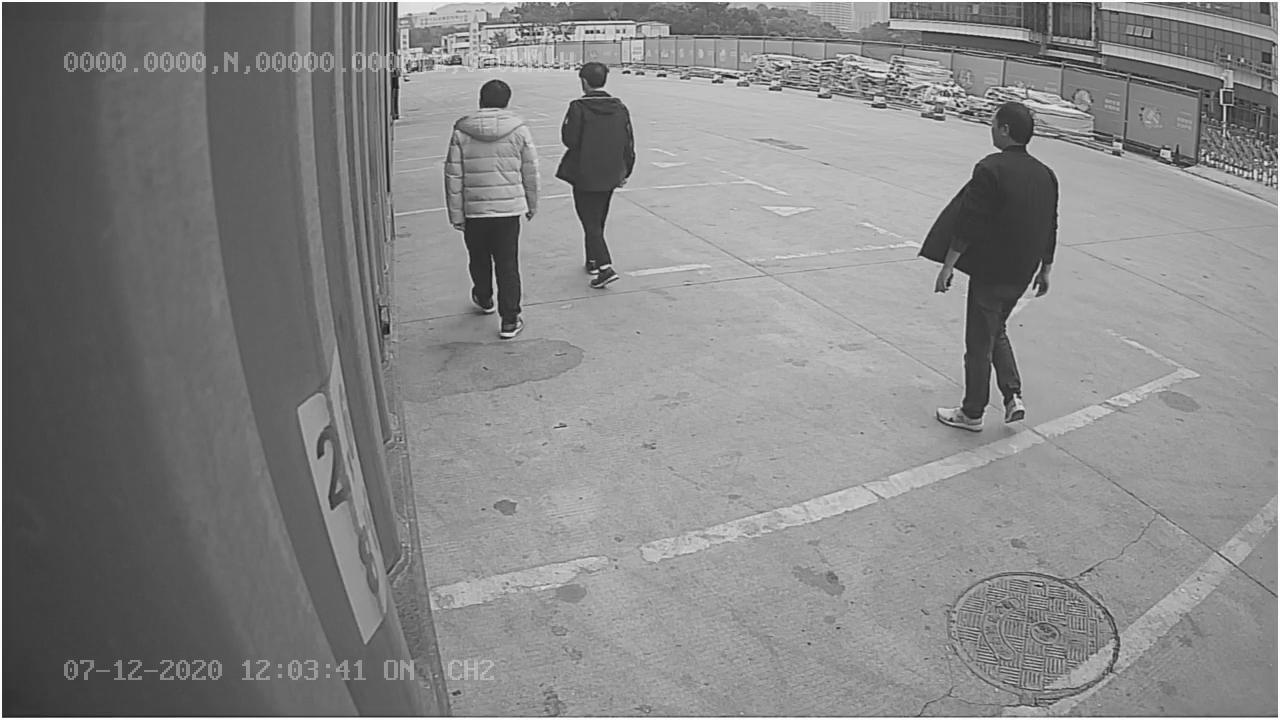person: (926, 90, 1060, 436), (441, 75, 542, 338), (557, 62, 634, 290)
